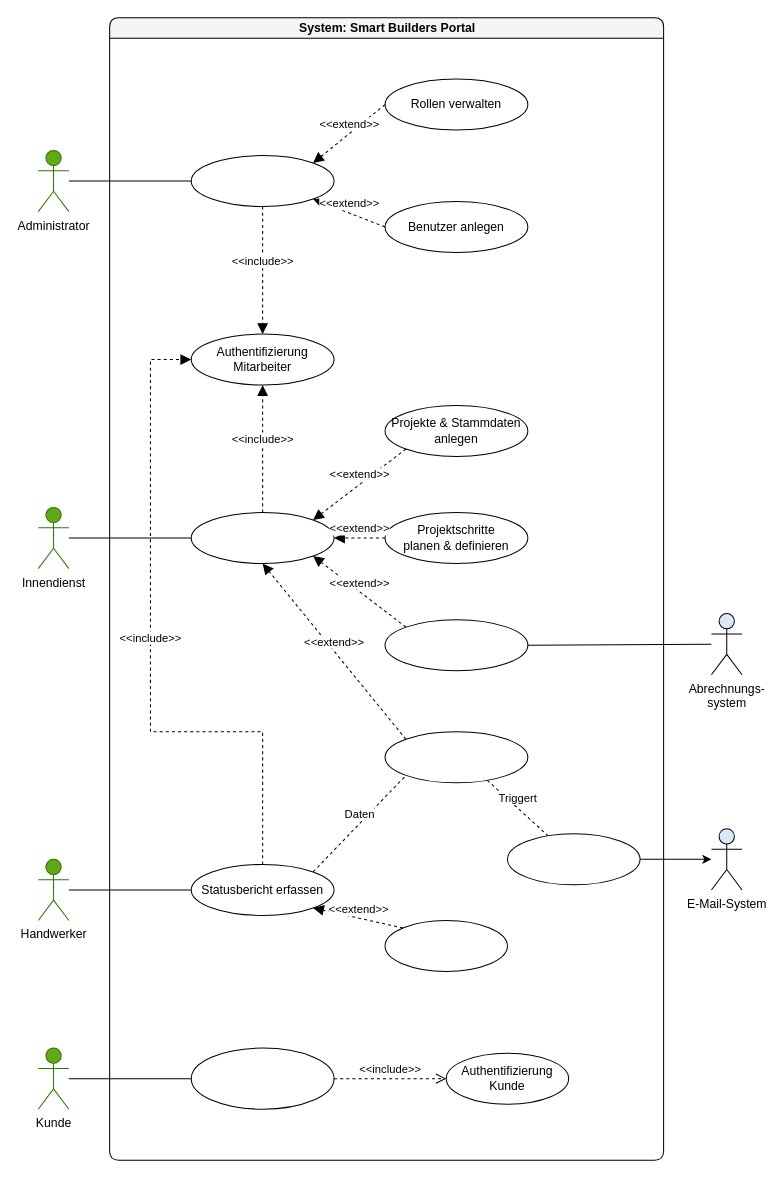
Image size: 784x1178. Some labels were removed from this diagram. The centre of each missing label's shape, as x and y in pixels:
Benachrichtigung senden: (x=573, y=859)
Benutzerübersicht anzeigen: (x=262, y=181)
Fotos hochladen: (x=445, y=946)
Projektfortschritt bestätigen: (x=456, y=757)
Projektstatus & Zeitstrahl einsehen: (x=262, y=1078)
Projektübersicht anzeigen: (x=262, y=538)
Rechnung finalisieren & exportieren: (x=456, y=645)
